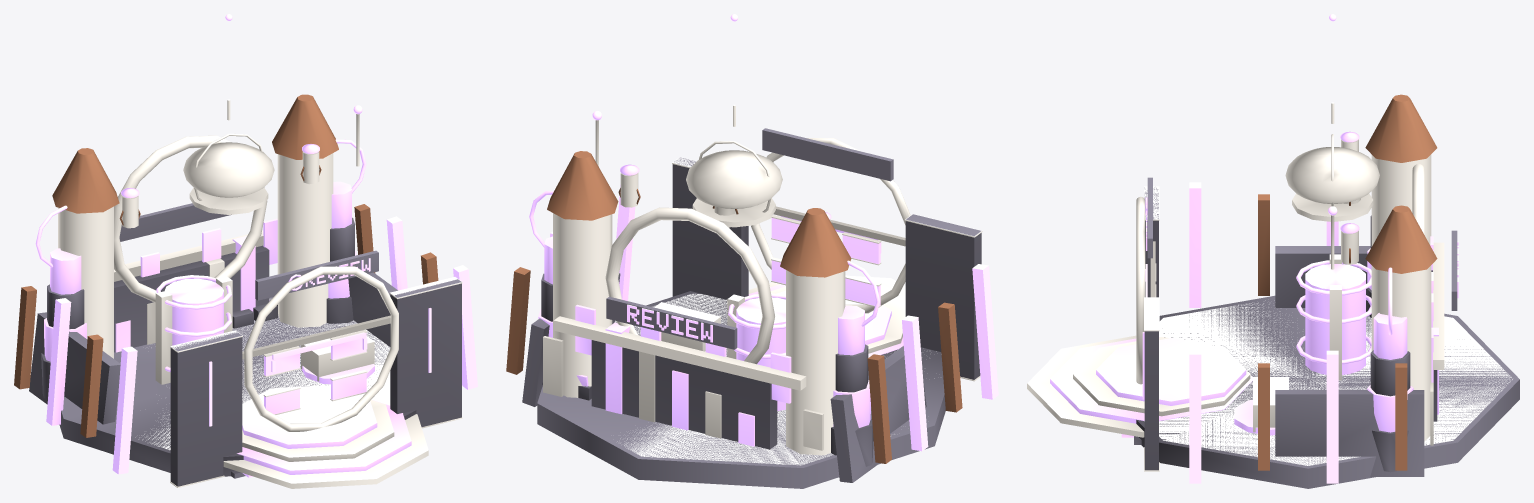
The model's file is review-office.glb.
3 renders of one model, left to right at view 1: azimuth 30°, elevation 25°; view 2: azimuth 150°, elevation 25°; view 3: azimuth 270°, elevation 25°, orthographic. The views are drawn at different scales.
Parts seen in each view (by area): view 1: review-office:near:surface:0, review-office:near:surface:3, review-office:near:surface:1, review-office:far:surface:0, review-office:near:surface:2, review-office:city-identity:verdict-halo, review-office:portal:chamber; view 2: review-office:near:surface:0, review-office:near:surface:1, review-office:far:surface:0, review-office:near:surface:3, review-office:near:surface:2, review-office:city-identity:verdict-halo, review-office:portal:chamber; view 3: review-office:near:surface:0, review-office:far:surface:0, review-office:near:surface:3, review-office:near:surface:1, review-office:near:surface:2, review-office:portal:chamber, review-office:city-identity:verdict-halo.
Boxes of the visible parts, x1,y1,x2,y2 form: review-office:near:surface:0: (29, 203, 461, 486); review-office:near:surface:3: (35, 14, 477, 477); review-office:near:surface:1: (114, 99, 462, 488); review-office:far:surface:0: (58, 153, 390, 450); review-office:near:surface:2: (14, 94, 438, 437); review-office:city-identity:verdict-halo: (114, 135, 267, 302); review-office:portal:chamber: (164, 278, 223, 345); review-office:near:surface:0: (522, 128, 981, 488); review-office:near:surface:1: (543, 104, 982, 450); review-office:far:surface:0: (553, 213, 936, 465); review-office:near:surface:3: (529, 14, 998, 451); review-office:near:surface:2: (506, 151, 962, 463); review-office:city-identity:verdict-halo: (605, 207, 774, 364); review-office:portal:chamber: (736, 297, 785, 410); review-office:near:surface:0: (1134, 177, 1519, 488); review-office:far:surface:0: (1144, 154, 1512, 465); review-office:near:surface:3: (1050, 14, 1458, 483); review-office:near:surface:1: (1027, 102, 1444, 471); review-office:near:surface:2: (1258, 94, 1437, 470); review-office:portal:chamber: (1305, 264, 1365, 374); review-office:city-identity:verdict-halo: (1412, 164, 1424, 234).
Size of the model in its own units: 17.26 by 17.1 by 19.8.
